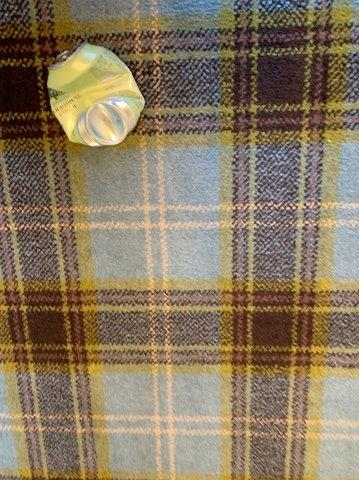kaleng: (47, 43, 146, 147)
